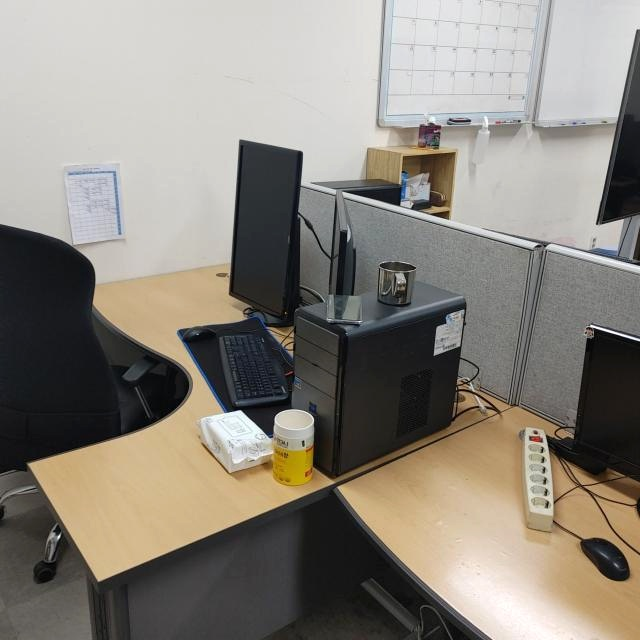cup: (373, 259, 419, 310)
phone: (322, 292, 363, 328)
